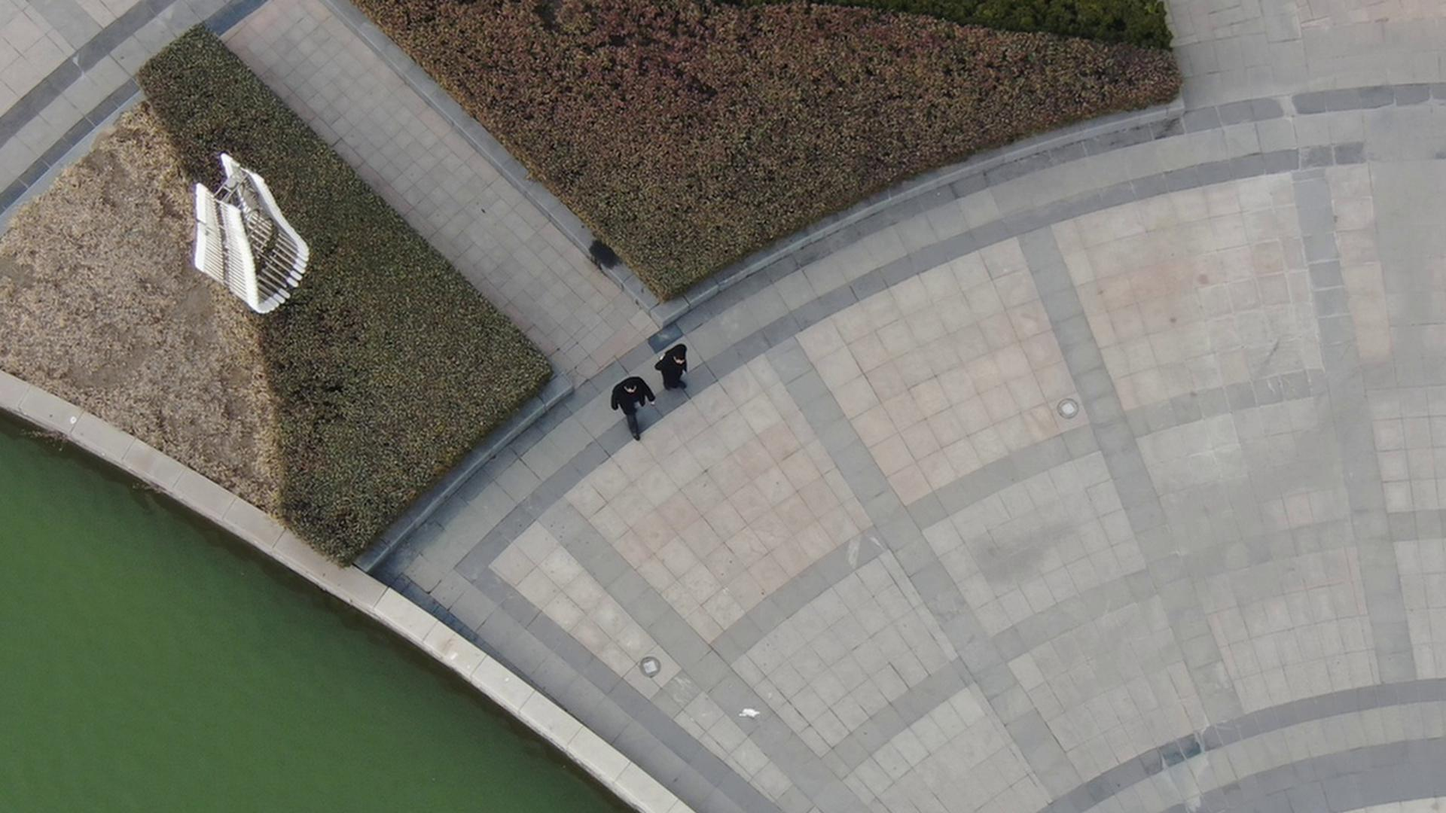human: (609, 367, 664, 434), (669, 339, 701, 400)
